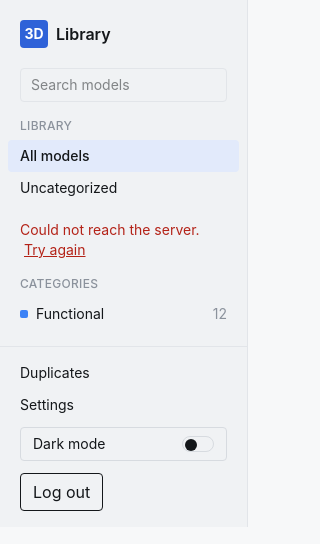
Test case: LibrarySidebar › recovers a stale list through the retry beside the failure
Expected: the link "Functional 12" is shown, [20,305,227,322]
Click the button "Try again".
click(55, 250)  # box [24,240,86,260]
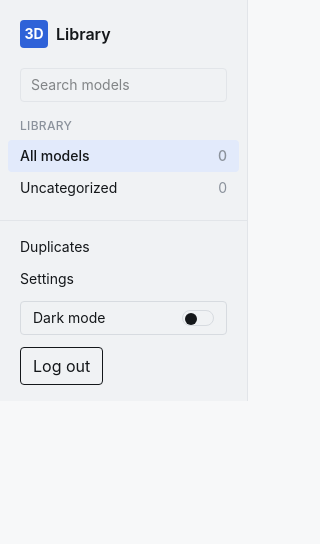
Expected: the link "Functional" is gone
Expected: the message "Could not reach the server. Try again" is gone
